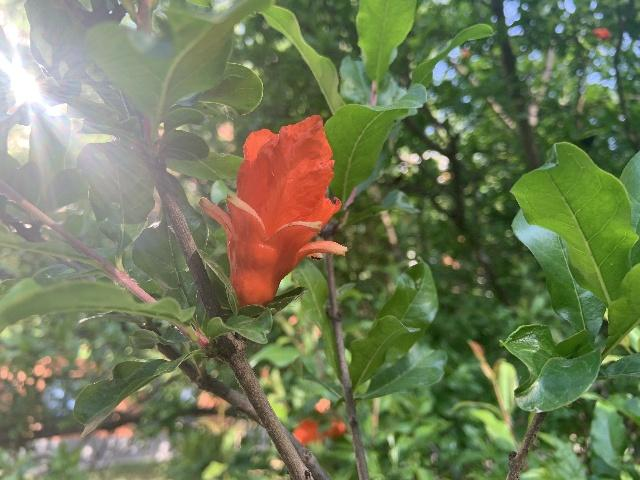flower: (199, 114, 347, 309), (293, 398, 345, 446)
